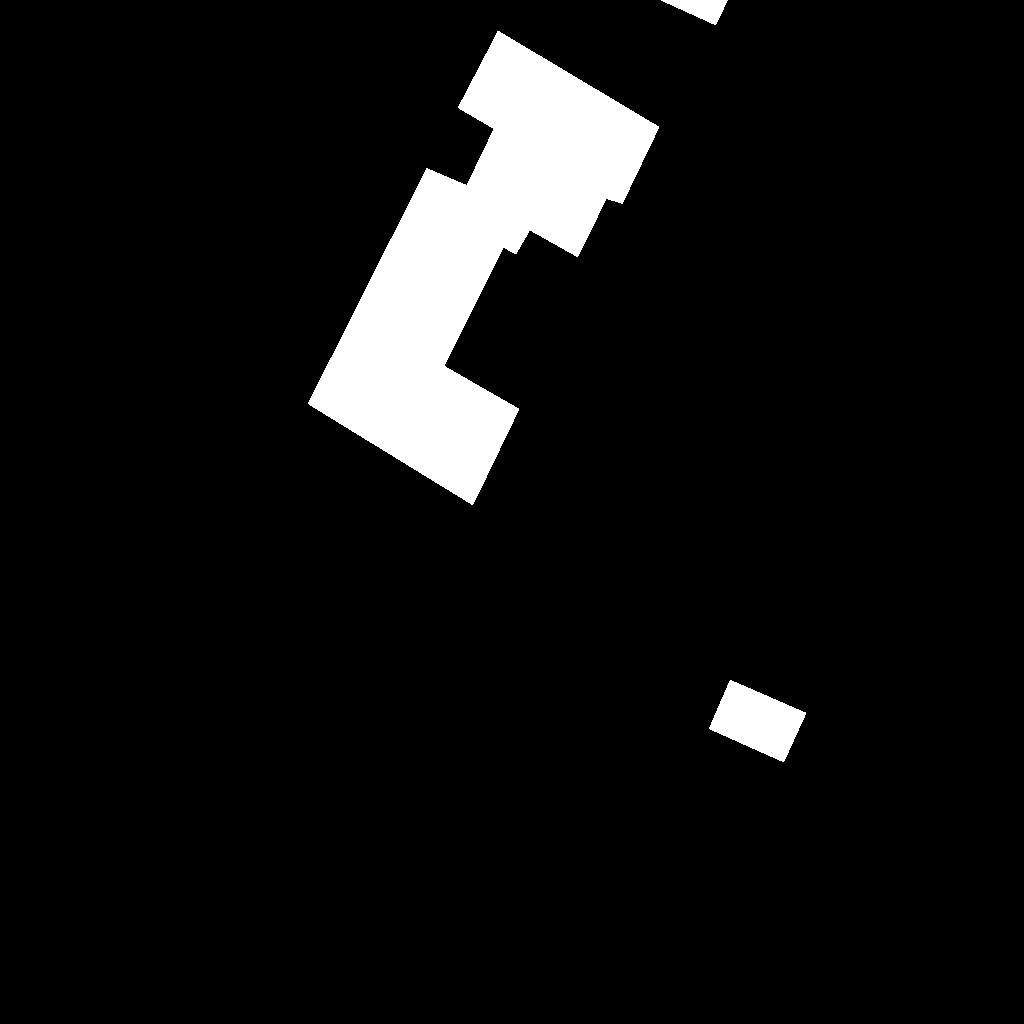building: (308, 31, 660, 506), (709, 680, 807, 763), (660, 0, 729, 26)
